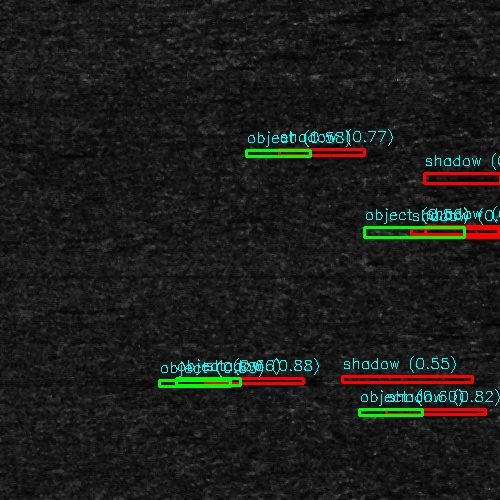rock: (354, 228, 469, 237), (369, 409, 410, 416), (190, 380, 231, 385), (396, 178, 427, 181)
shadow: (412, 228, 500, 237), (390, 409, 500, 416), (211, 380, 317, 385), (412, 178, 500, 181), (282, 152, 366, 153)
